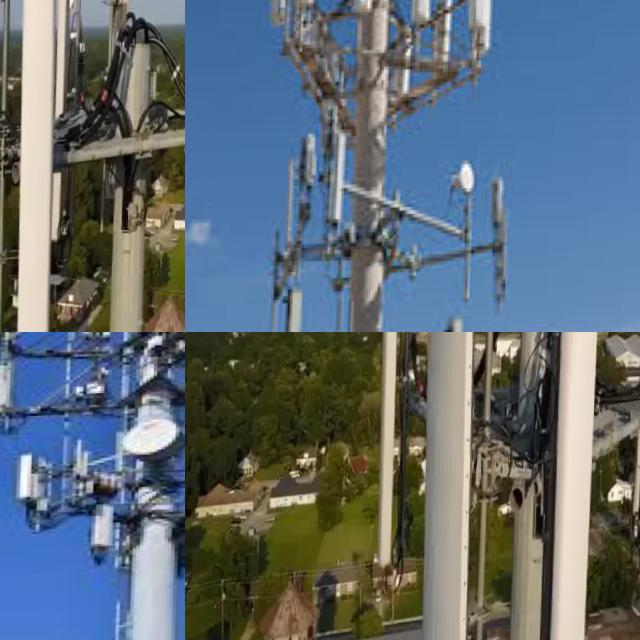GSM Antenna: (405, 332, 500, 640), (0, 0, 75, 332), (539, 332, 606, 640), (364, 332, 417, 575), (489, 181, 517, 313), (324, 125, 355, 225), (10, 455, 37, 505), (459, 0, 492, 40), (0, 360, 22, 419), (283, 285, 310, 332), (91, 507, 118, 553), (410, 0, 438, 29), (266, 0, 294, 27)
Microwave Antenna: (113, 415, 184, 471), (454, 162, 478, 203)
